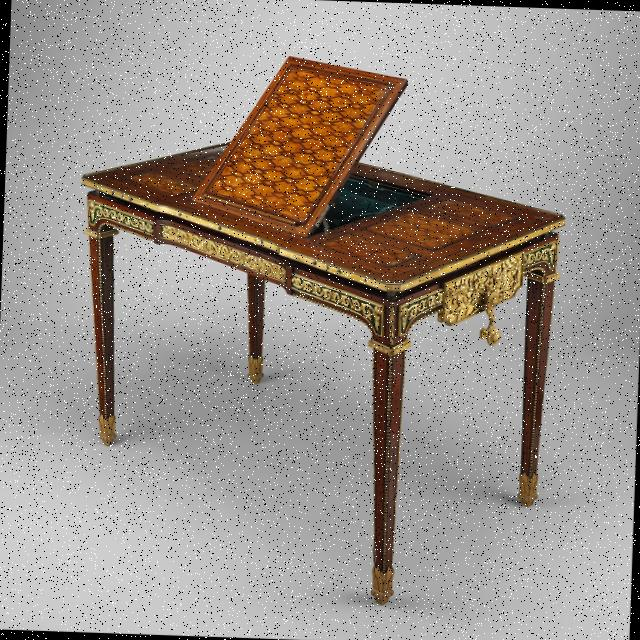Table: (13, 22, 604, 640)
